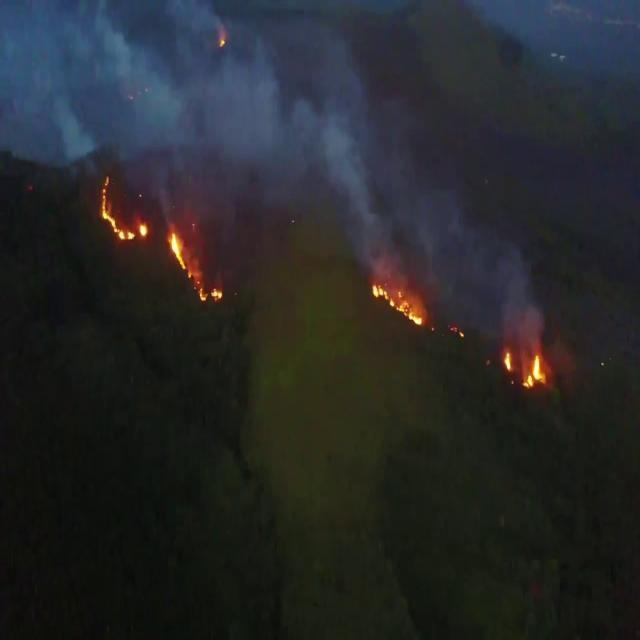Fire: (168, 230, 224, 303), (100, 174, 149, 243), (370, 280, 424, 326), (521, 354, 547, 390), (504, 348, 514, 372)
Smoke: (0, 1, 578, 387)
